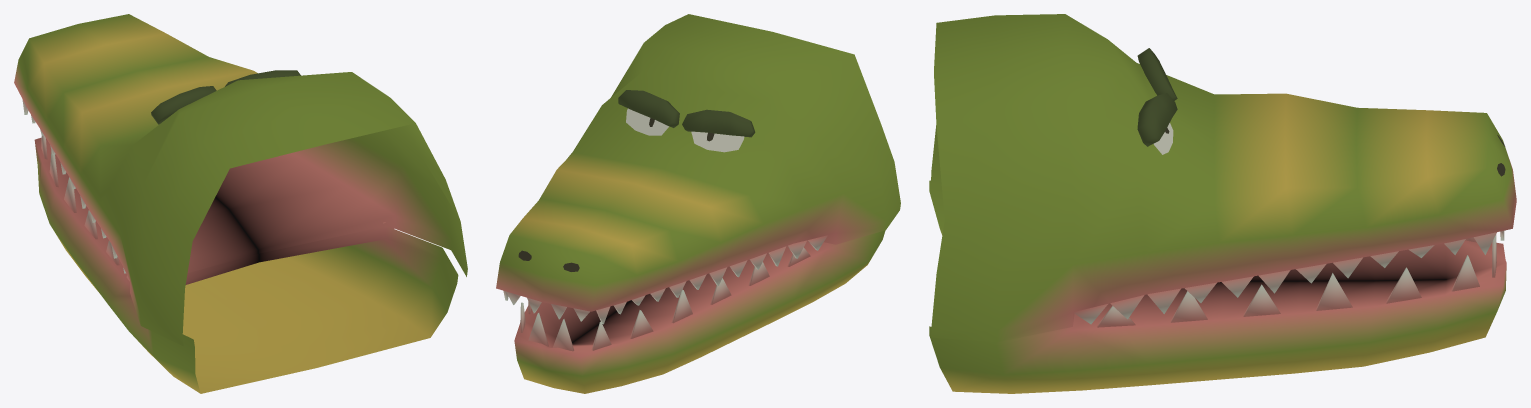
The model's file is crocodile.glb.
3 views of the same model, side by side, from view 1: azimuth 30°, elevation 25°; view 2: azimuth 150°, elevation 25°; view 3: azimuth 270°, elevation 25° (orthographic). The views are drawn at different scales.
Parts seen in each view (by area): view 1: Croc_Top, Croc_Bottom; view 2: Croc_Top, Croc_Bottom; view 3: Croc_Top, Croc_Bottom.
Part boxes in pixels (box(x1,y1,x2,y2)): Croc_Top: box(14, 14, 467, 346); Croc_Bottom: box(34, 135, 458, 393); Croc_Top: box(496, 14, 900, 324); Croc_Bottom: box(514, 230, 885, 393); Croc_Top: box(931, 14, 1516, 342); Croc_Bottom: box(929, 179, 1506, 393).
Bounding box in the file's own units: 5.8 × 4.42 × 8.39.
